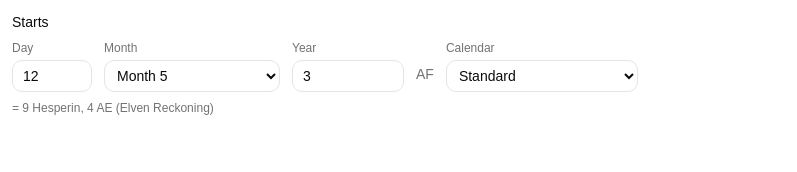
DateEditor › re-derives the fields when the calendar changes, keeping the same absolute day
The width and height of the screenshot is (797, 172).
Expected: the field labelled "Era" is not shown
Select "Elven Reckoning" in the dropdown labelled "Calendar" at {"x": 542, "y": 76}, box [446,60,638,92]
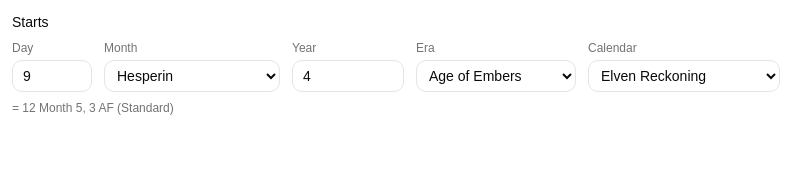
Expected: the dropdown labelled "Month" shows "Hesperin", [104,60,280,92]
Expected: the dropdown labelled "Era" shows "Age of Embers", [416,60,576,92]
